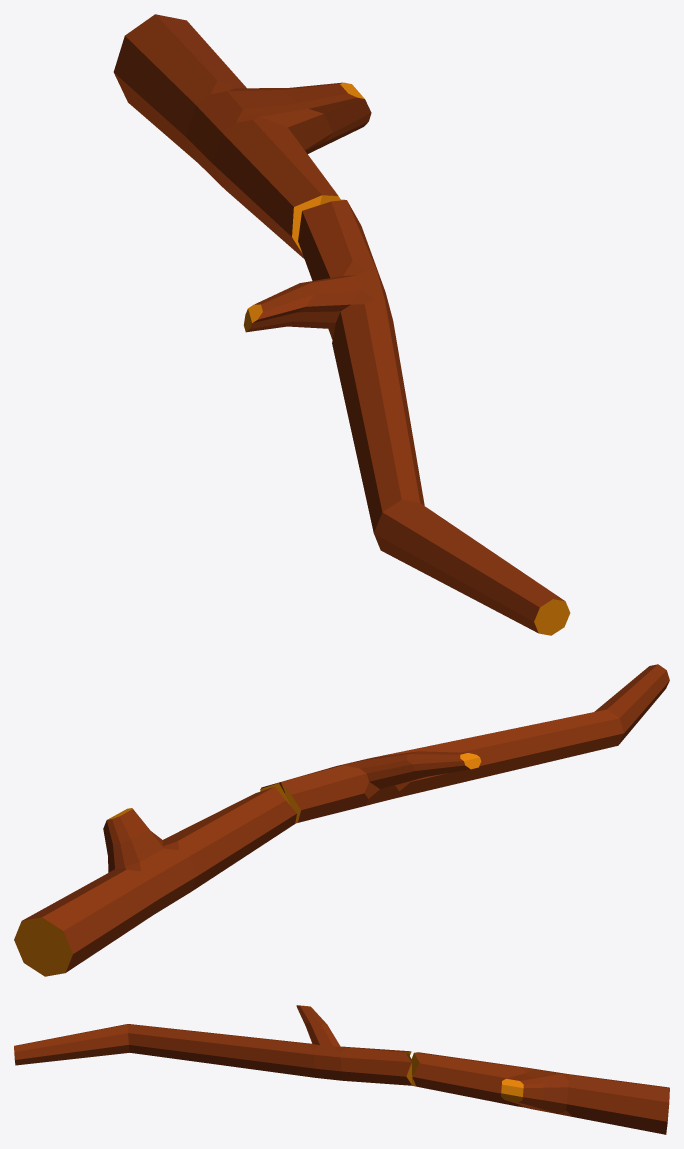
File: Stick_6.fbx
3 views of the same model, one above another, from view 1: azimuth 30°, elevation 25°; view 2: azimuth 150°, elevation 25°; view 3: azimuth 270°, elevation 25° (orthographic). The views are drawn at different scales.
Parts seen in each view (by area): view 1: Circle.036, Circle.032; view 2: Circle.032, Circle.036; view 3: Circle.036, Circle.032.
Boxes of the visible parts, x1,y1,x2,y2 form: Circle.036: (243,200,570,635); Circle.032: (113,14,371,258); Circle.032: (14,783,296,976); Circle.036: (260,664,669,823); Circle.036: (14,1005,412,1085); Circle.032: (407,1052,669,1134).
Bounding box in the file's own units: 14.72 × 4.81 × 44.13.
